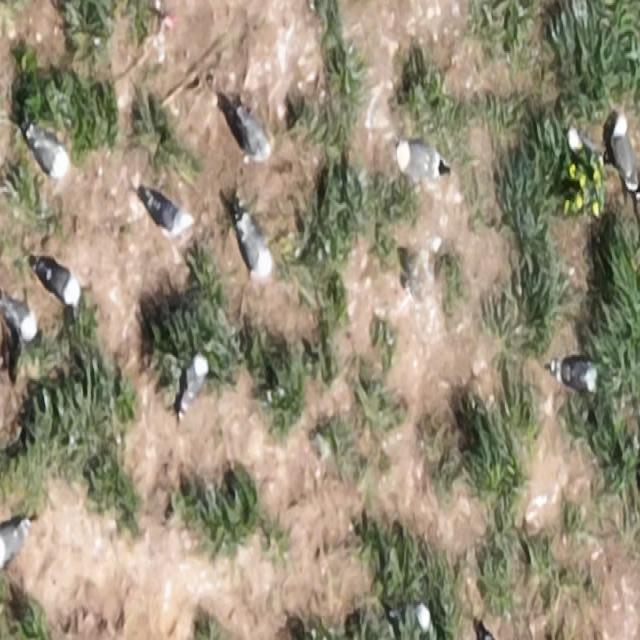umineko: (610, 114, 638, 207), (233, 214, 274, 277), (29, 129, 75, 181), (43, 267, 79, 305), (152, 200, 191, 234), (556, 361, 598, 389), (243, 115, 270, 158), (9, 302, 39, 340), (184, 356, 208, 403), (402, 145, 446, 170), (1, 524, 23, 567), (416, 606, 431, 634)
